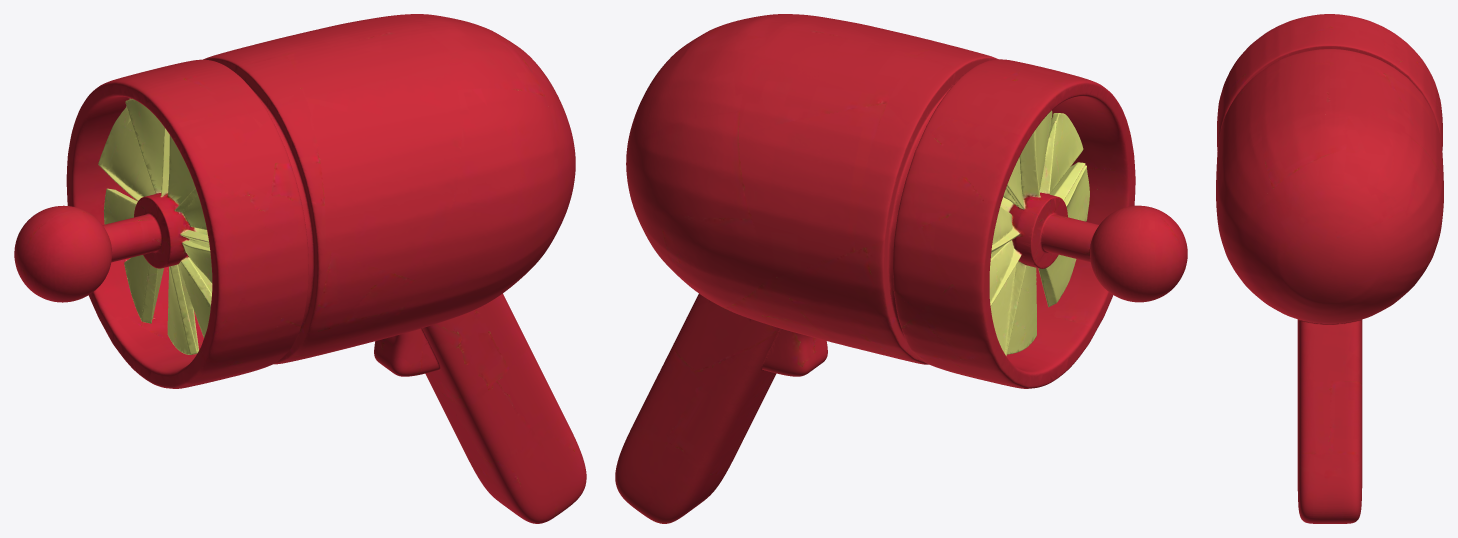
File: Meshy_AI_Candy_Cannon_0820062854_texture-optimized.glb
3 views of the same model, side by side, from view 1: azimuth 30°, elevation 25°; view 2: azimuth 150°, elevation 25°; view 3: azimuth 270°, elevation 25° (orthographic). The views are drawn at different scales.
Parts seen in each view (by area): view 1: mesh_node; view 2: mesh_node; view 3: mesh_node.
Part boxes in pixels (x1,y1,x2,y2): mesh_node: [14, 14, 586, 523]; mesh_node: [615, 14, 1187, 523]; mesh_node: [1216, 14, 1443, 523].
Bounding box in the file's own units: 1.9 × 1.71 × 0.9416.
Materials: 1 (1 with a texture image).
